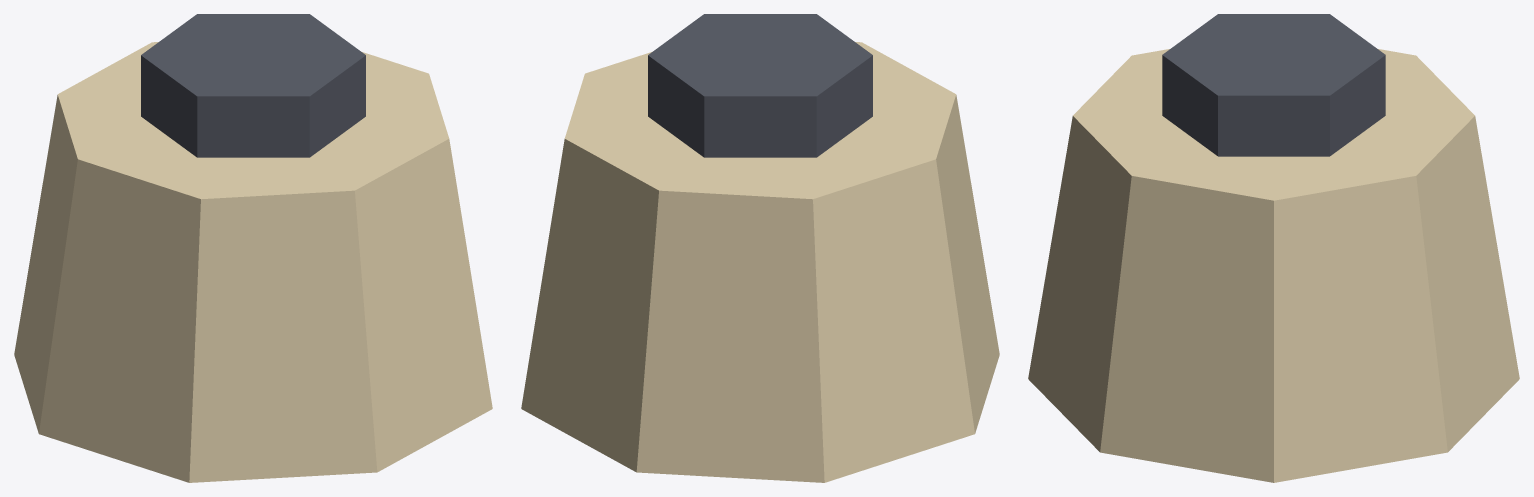
The model's file is areia.glb.
3 renders of one model, left to right at view 1: azimuth 30°, elevation 25°; view 2: azimuth 150°, elevation 25°; view 3: azimuth 270°, elevation 25°, orthographic.
Visible parts, largest first — view 1: areia; view 2: areia; view 3: areia.
Boxes of the visible parts, bbox=[...] form: areia: bbox=[14, 14, 492, 482]; areia: bbox=[521, 14, 999, 482]; areia: bbox=[1028, 14, 1519, 482].
Size of the model in its own units: 0.22 by 0.16 by 0.22.
